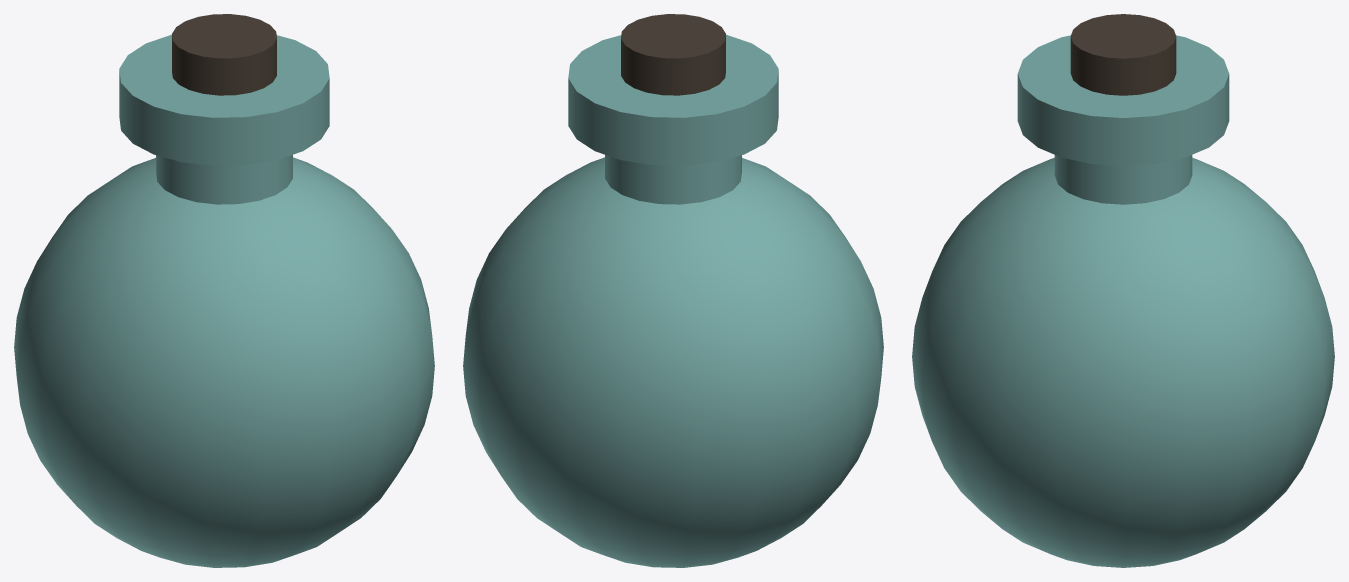
File: potion.fbx
3 views of the same model, side by side, from view 1: azimuth 30°, elevation 25°; view 2: azimuth 150°, elevation 25°; view 3: azimuth 270°, elevation 25° (orthographic).
Visible parts, largest first — view 1: POTION1; view 2: POTION1; view 3: POTION1.
Boxes of the visible parts, box(x1,y1,x2,y2) form: POTION1: box(14, 14, 434, 567); POTION1: box(463, 14, 883, 567); POTION1: box(912, 14, 1334, 567).
Bounding box in the file's own units: 20 × 26.72 × 20.
